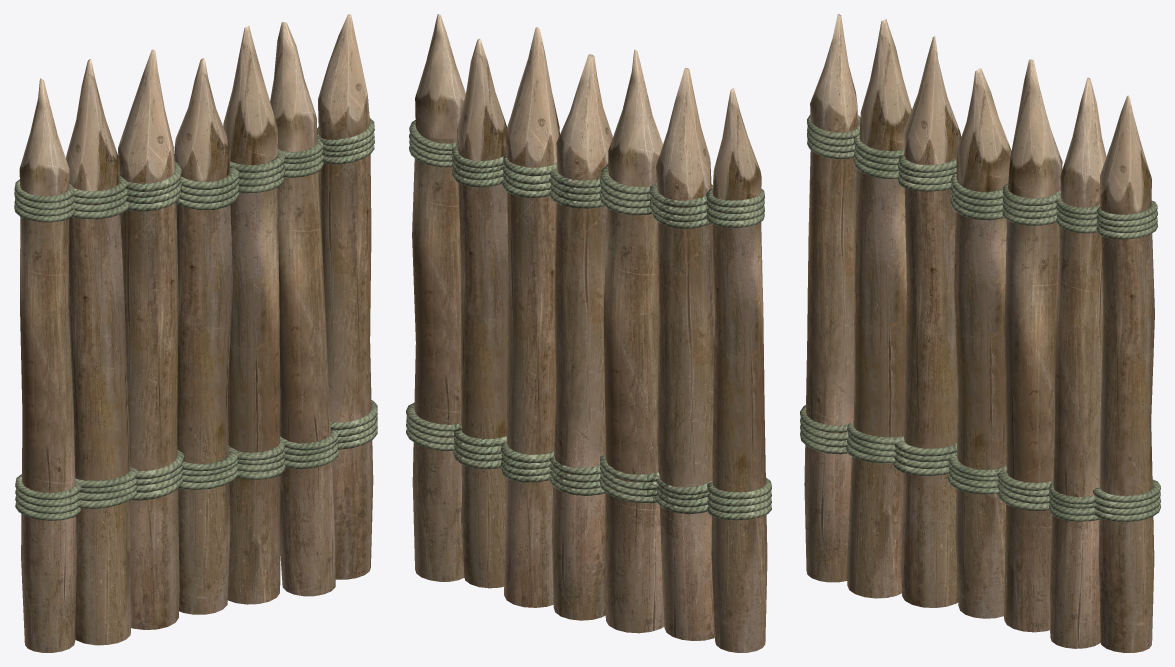
3 renders of one model, left to right at view 1: azimuth 30°, elevation 25°; view 2: azimuth 150°, elevation 25°; view 3: azimuth 330°, elevation 25°, orthographic.
Visible parts, largest first — view 1: SM_BB_T2_Pallisades_LOD0; view 2: SM_BB_T2_Pallisades_LOD0; view 3: SM_BB_T2_Pallisades_LOD0.
Boxes of the visible parts, x1,y1,x2,y2 form: SM_BB_T2_Pallisades_LOD0: (14, 14, 377, 652); SM_BB_T2_Pallisades_LOD0: (406, 14, 771, 652); SM_BB_T2_Pallisades_LOD0: (800, 14, 1160, 652).
Size of the model in its own units: 3.15 by 4.8 by 0.6317.
Materials: 1 (1 with a texture image).
